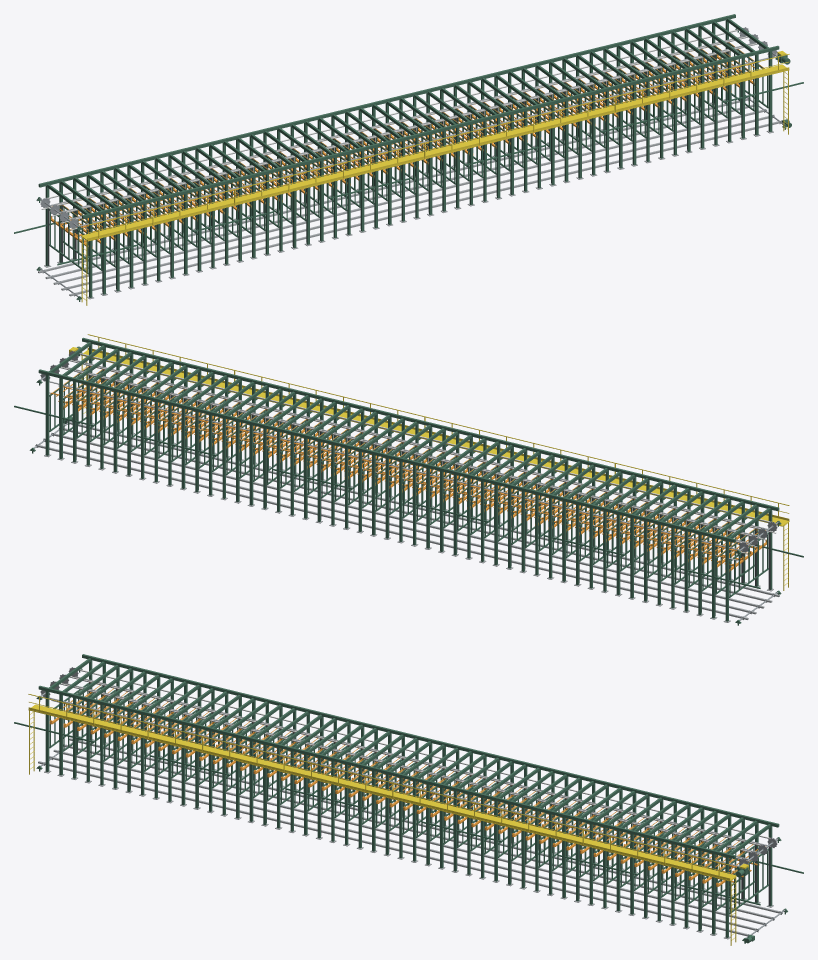
File: bin_sorter_frame.glb
3 views of the same model, one above another, from view 1: azimuth 30°, elevation 25°; view 2: azimuth 150°, elevation 25°; view 3: azimuth 330°, elevation 25° (orthographic).
Parts seen in each view (by area): view 1: Structure_ForestGreen, Structure_GalvanizedSteel, Structure_SafetyYellow, Structure_OiledSteel, Structure_UHMWWearStrips; view 2: Structure_ForestGreen, Structure_GalvanizedSteel, Structure_SafetyYellow, Structure_OiledSteel, Structure_UHMWWearStrips; view 3: Structure_ForestGreen, Structure_GalvanizedSteel, Structure_SafetyYellow, Structure_OiledSteel, Structure_UHMWWearStrips.
Part boxes in pixels (x1,y1,x2,y2): Structure_ForestGreen: (14,14,803,301); Structure_GalvanizedSteel: (38,30,779,299); Structure_SafetyYellow: (81,51,789,305); Structure_OiledSteel: (47,42,741,291); Structure_UHMWWearStrips: (42,29,756,236); Structure_ForestGreen: (14,337,803,625); Structure_GalvanizedSteel: (38,353,779,622); Structure_SafetyYellow: (69,334,789,590); Structure_OiledSteel: (76,366,770,615); Structure_UHMWWearStrips: (49,353,775,560); Structure_ForestGreen: (14,654,803,943); Structure_GalvanizedSteel: (38,670,779,939); Structure_SafetyYellow: (28,694,748,945); Structure_OiledSteel: (76,682,770,931); Structure_UHMWWearStrips: (52,669,770,861).
Bounding box in the file's own units: 54.89 × 6.1 × 6.72.
